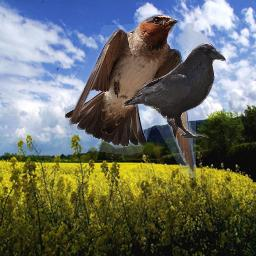Crow: (122, 42, 227, 138)
Swallow: (65, 14, 196, 178)
